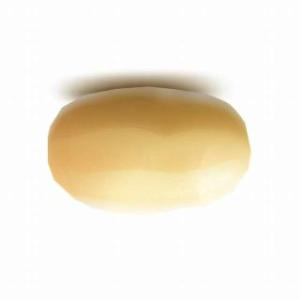potato: (48, 87, 248, 214)
